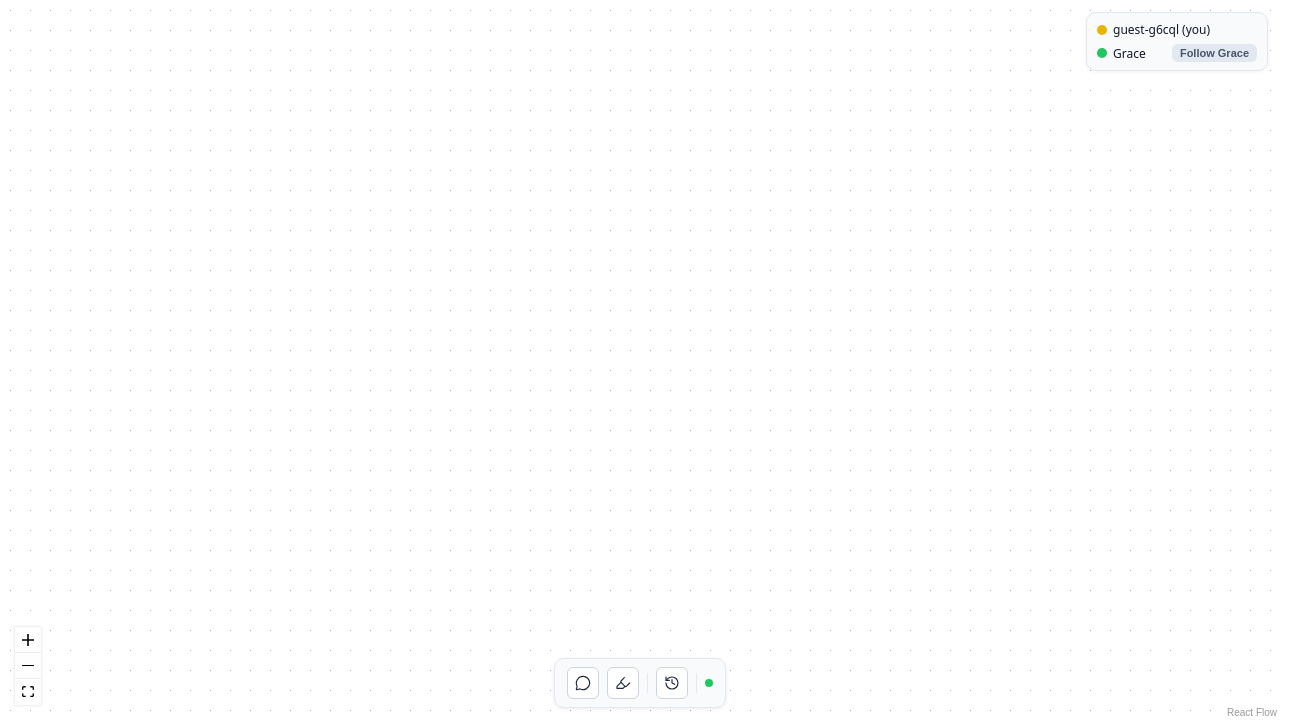
BoardCanvas › clicking Follow on a remote in the active-users panel starts following (viewport applied)
Click the button "Follow Grace". click: (1214,53)
box: [1172,44,1257,62]
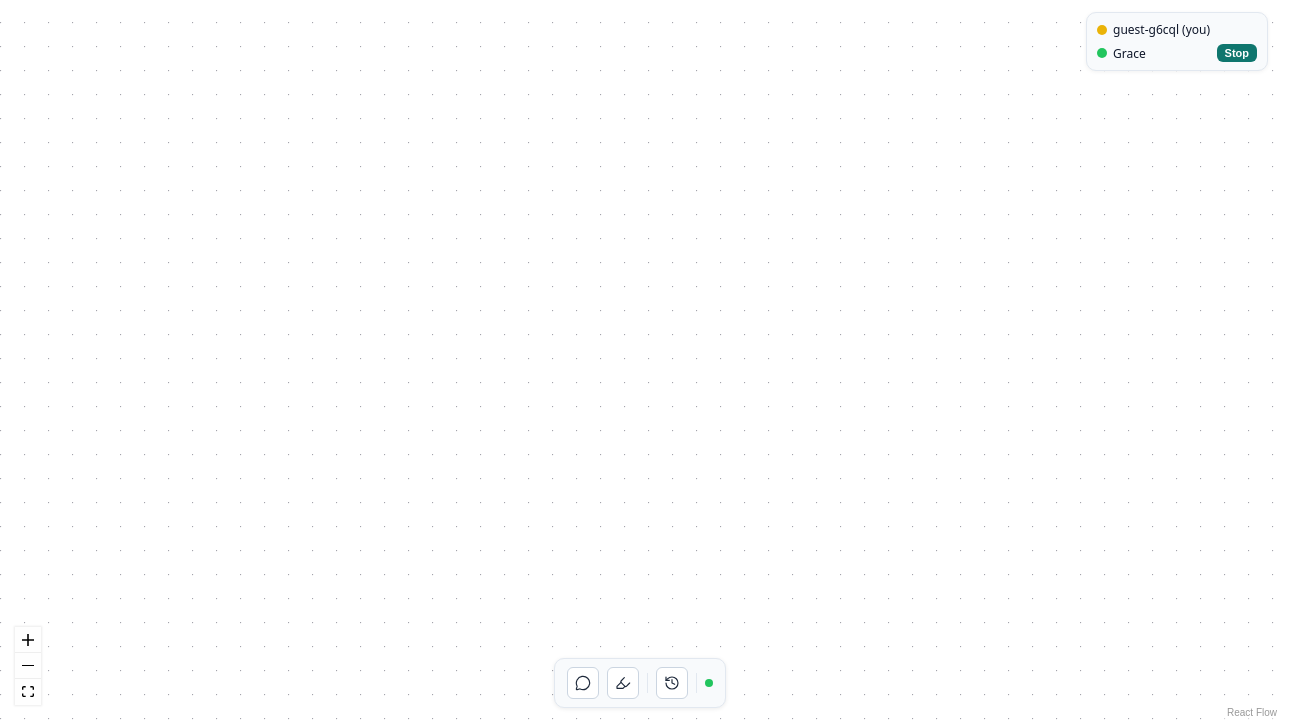
Now the button "Stop" is shown, box [1216,44,1257,62]
